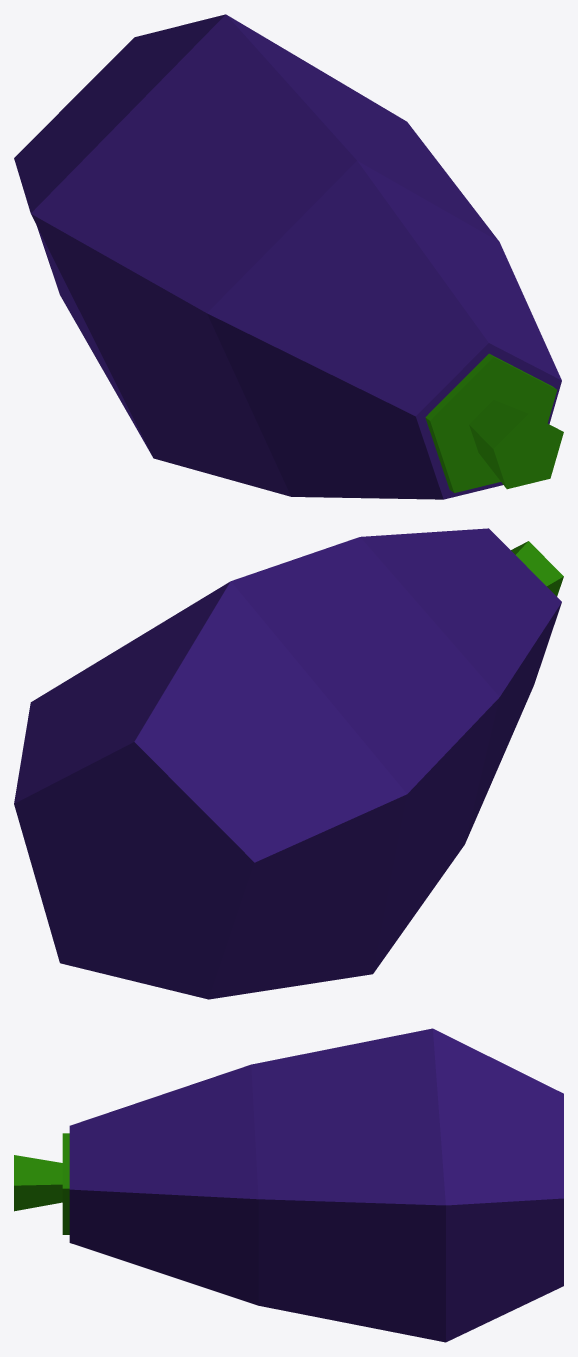
File: berenjena.fbx
The picture shows the model from 3 angles, top to bottom: view 1: azimuth 30°, elevation 25°; view 2: azimuth 150°, elevation 25°; view 3: azimuth 270°, elevation 25°; orthographic projection. The views are drawn at different scales.
Visible parts, largest first — view 1: Berenjena; view 2: Berenjena; view 3: Berenjena.
Boxes of the visible parts, box(x1,y1,x2,y2) form: Berenjena: box(14, 14, 563, 499); Berenjena: box(14, 528, 563, 999); Berenjena: box(14, 1028, 563, 1342).
Bounding box in the file's own units: 5.01 × 4.99 × 9.08.
